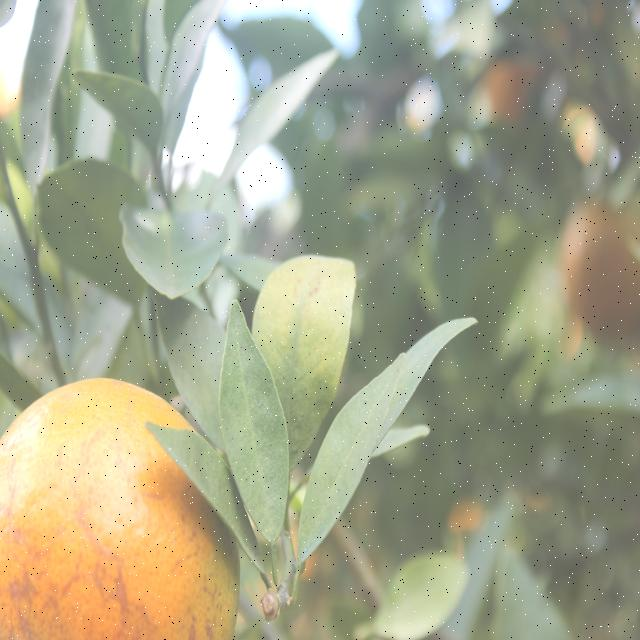blackspot: (295, 360, 402, 559), (218, 324, 286, 532), (268, 262, 352, 405)
